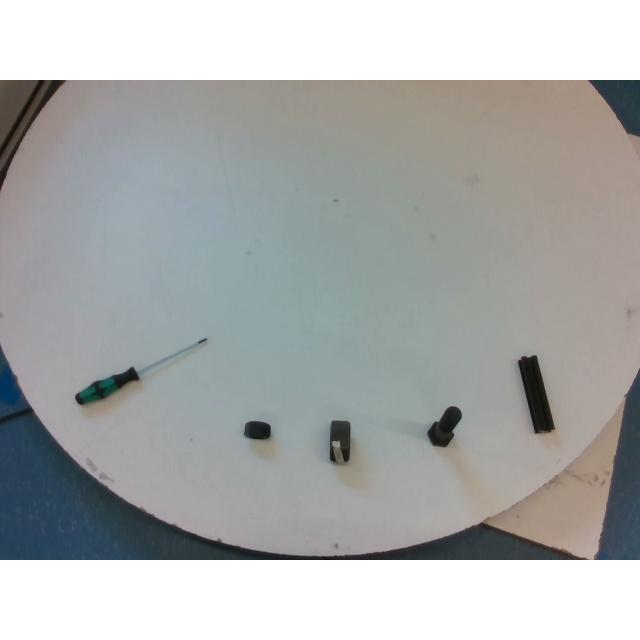F20_20_B: (518, 356, 554, 432)
M20: (244, 421, 270, 439)
M20_100: (427, 406, 461, 446)
M30: (330, 421, 350, 464)
Screwdriver: (75, 336, 207, 404)
